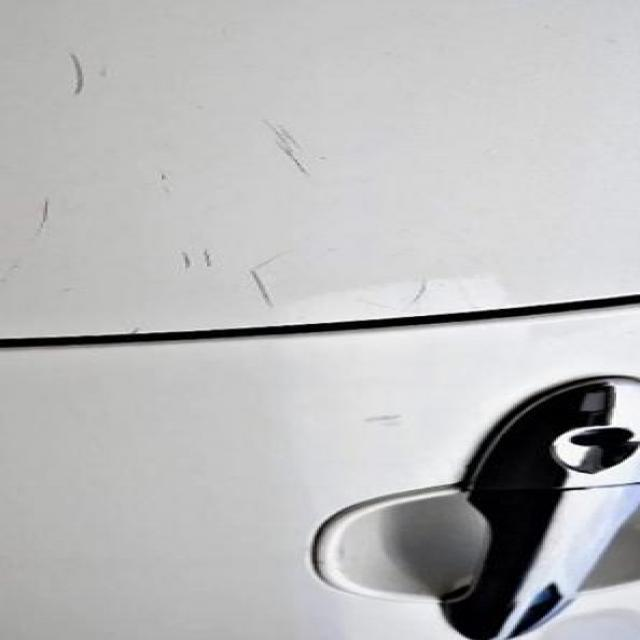scratch: (156, 239, 296, 319), (253, 115, 339, 187), (54, 36, 97, 124)
